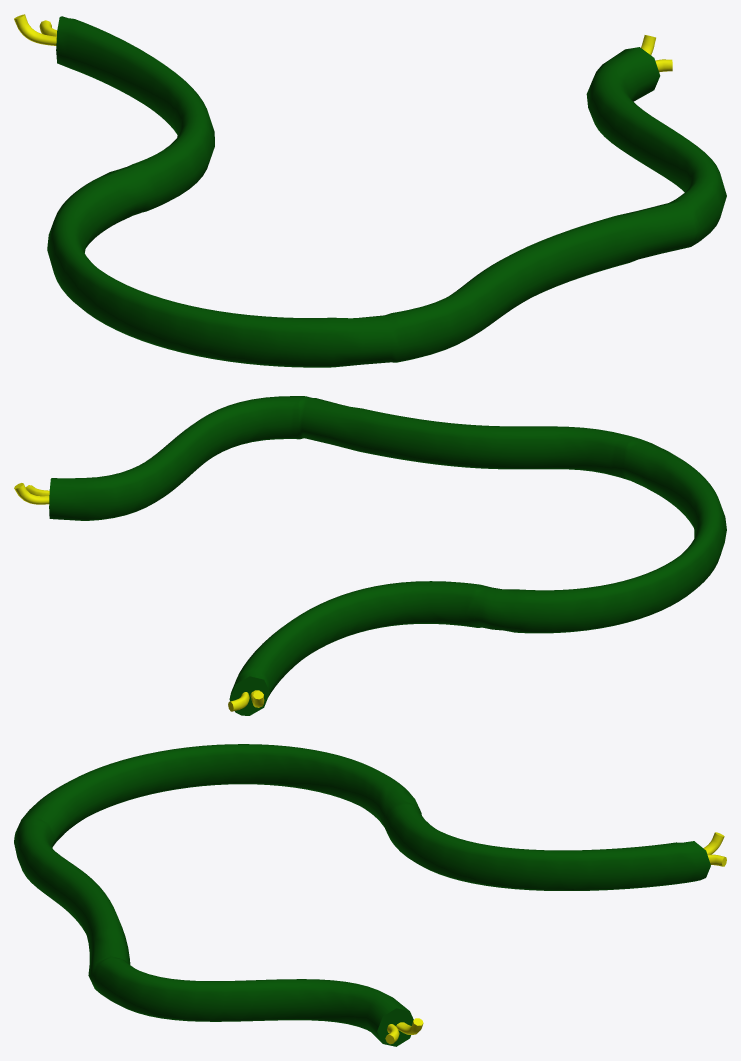
Rendered from cable_1.fbx.
3 views of the same model, one above another, from view 1: azimuth 30°, elevation 25°; view 2: azimuth 150°, elevation 25°; view 3: azimuth 270°, elevation 25° (orthographic). The views are drawn at different scales.
Visible parts, largest first — view 1: extrudedSurface7; view 2: extrudedSurface7; view 3: extrudedSurface7.
Boxes of the visible parts, <box> form: extrudedSurface7: <box>14,14,726,367</box>; extrudedSurface7: <box>14,396,726,715</box>; extrudedSurface7: <box>14,744,726,1046</box>.
Bounding box in the file's own units: 1.05 × 0.067 × 1.12.
